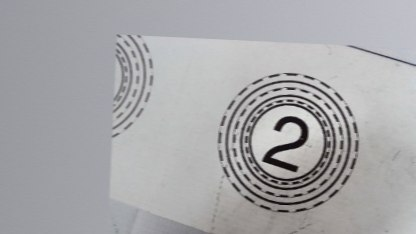2r: (213, 69, 362, 218)
